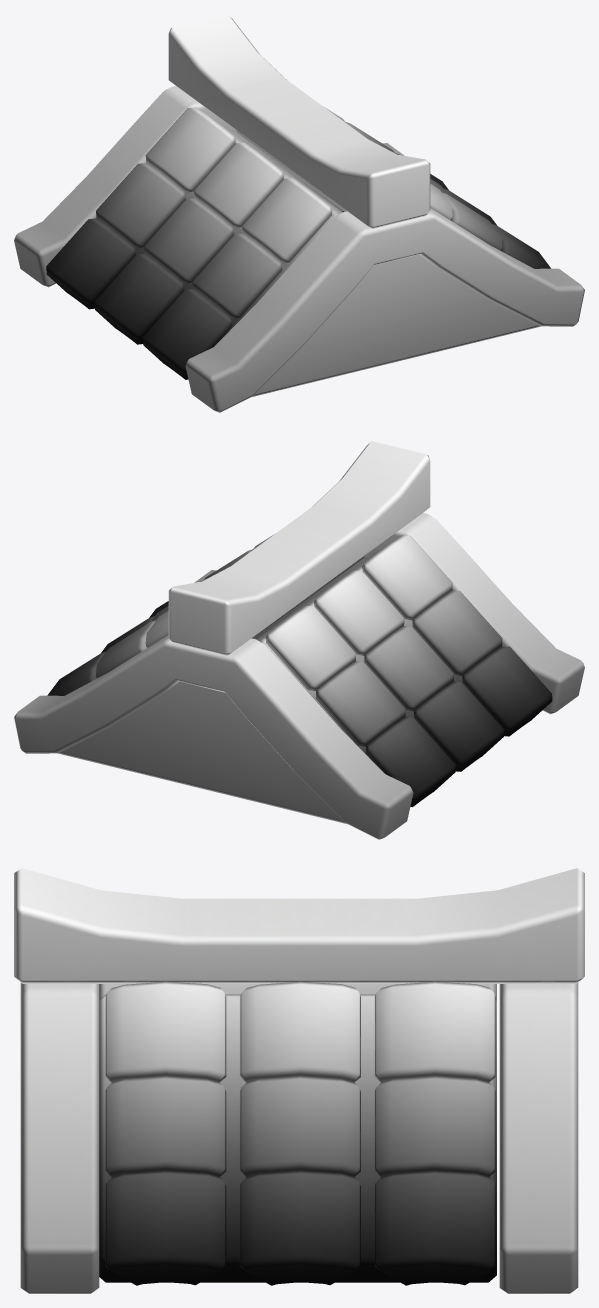
Rendered from SM_Stone_Roof_07.fbx.
3 renders of one model, top to bottom at view 1: azimuth 30°, elevation 25°; view 2: azimuth 150°, elevation 25°; view 3: azimuth 270°, elevation 25°, orthographic. The views are drawn at different scales.
Parts seen in each view (by area): view 1: SM_Stone_Roof_07; view 2: SM_Stone_Roof_07; view 3: SM_Stone_Roof_07.
Part boxes in pixels (box(x1,y1,x2,y2)): SM_Stone_Roof_07: box(14, 14, 584, 412); SM_Stone_Roof_07: box(14, 441, 584, 839); SM_Stone_Roof_07: box(14, 868, 584, 1293).
Bounding box in the file's own units: 1.11 × 0.5728 × 1.02.
